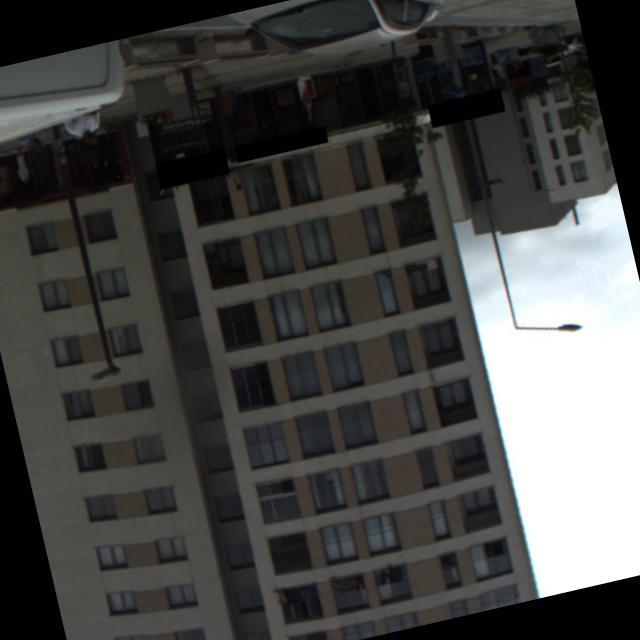SignStore: (233, 126, 327, 162), (429, 87, 504, 127), (154, 148, 227, 188)
